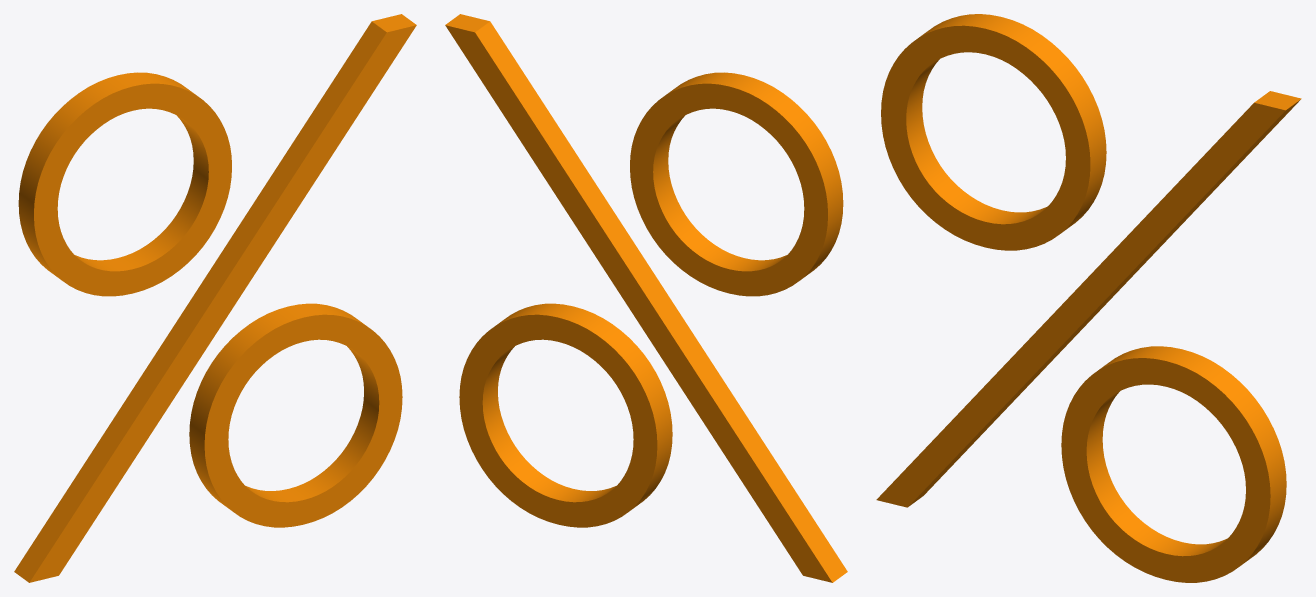
File: Interest.FBX
3 renders of one model, left to right at view 1: azimuth 30°, elevation 25°; view 2: azimuth 150°, elevation 25°; view 3: azimuth 330°, elevation 25°, orthographic. The views are drawn at different scales.
Visible parts, largest first — view 1: Interest; view 2: Interest; view 3: Interest.
Boxes of the visible parts, <box> form: Interest: <box>14,14,416,582</box>; Interest: <box>445,14,847,582</box>; Interest: <box>876,14,1301,582</box>.
Bounding box in the file's own units: 73.59 × 87.06 × 5.
